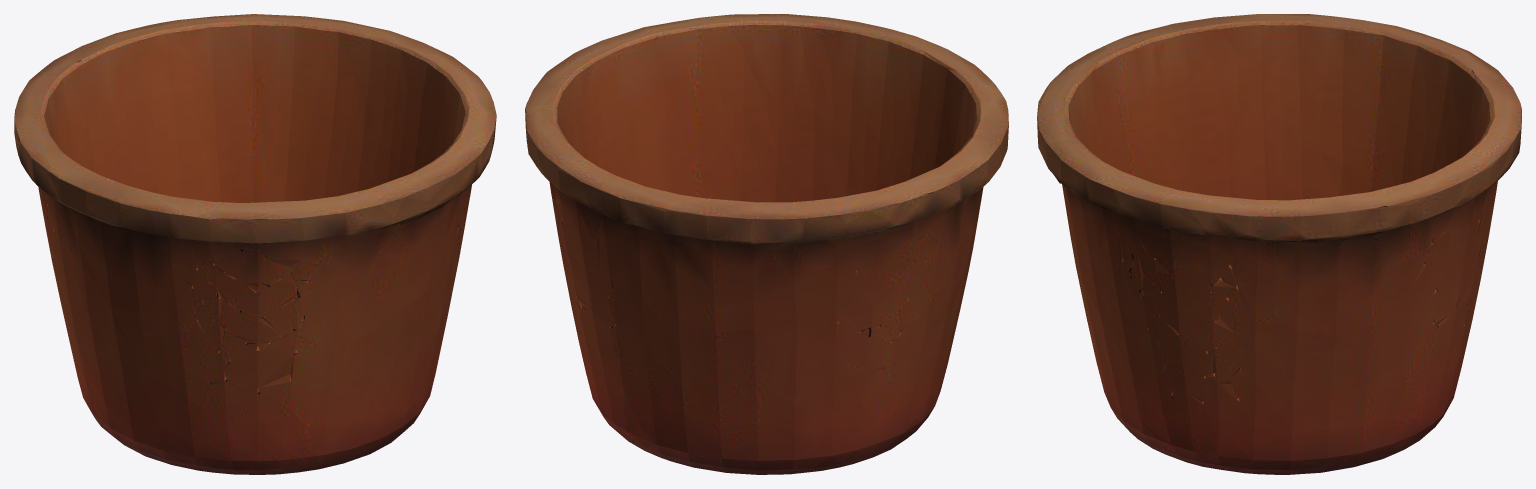
The model's file is orange_cup_on_dresser_000.glb.
The picture shows the model from 3 angles, left to right: view 1: azimuth 30°, elevation 25°; view 2: azimuth 150°, elevation 25°; view 3: azimuth 270°, elevation 25°; orthographic projection.
Parts seen in each view (by area): view 1: phase2_final_orange_cup_on_dresser_000.obj; view 2: phase2_final_orange_cup_on_dresser_000.obj; view 3: phase2_final_orange_cup_on_dresser_000.obj.
Part boxes in pixels (left/top/right/bottom): phase2_final_orange_cup_on_dresser_000.obj: left=14, top=14, right=496, bottom=474; phase2_final_orange_cup_on_dresser_000.obj: left=525, top=14, right=1008, bottom=474; phase2_final_orange_cup_on_dresser_000.obj: left=1037, top=14, right=1521, bottom=474.
Size of the model in its own units: 0.065 by 0.0454 by 0.065.
1 material, 1 textured.
